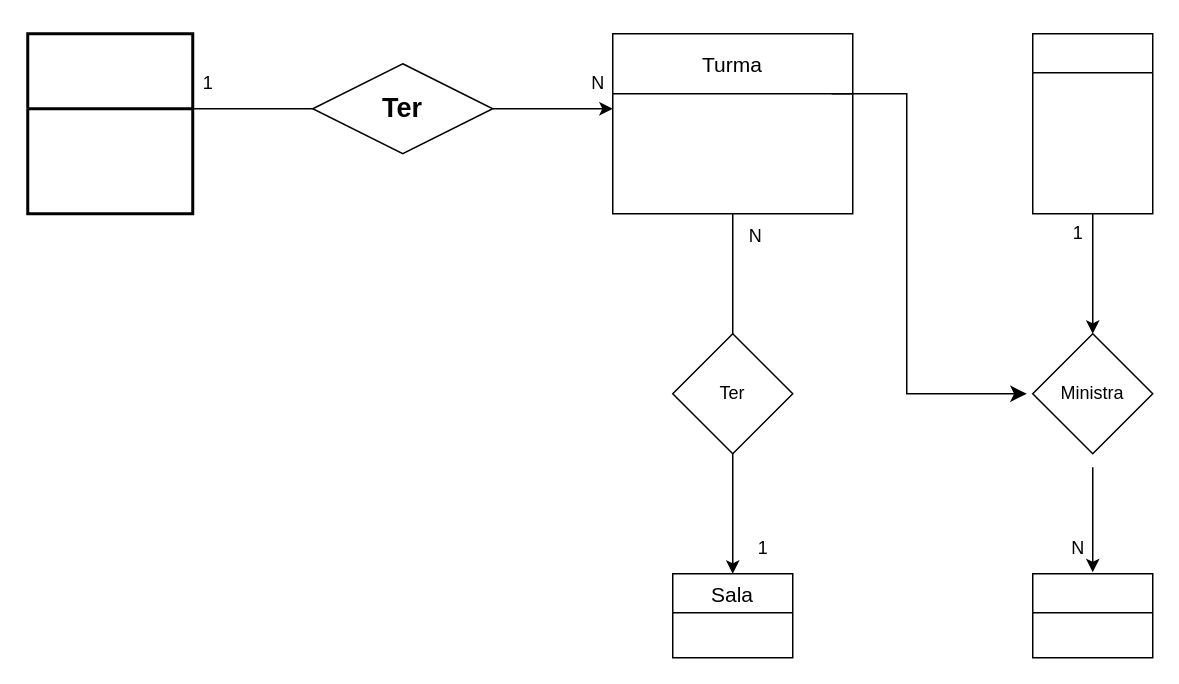
The diagram is 1179 pixels wide and 684 high, and some of its shapes have lost their labels. Each missing label, with the box of its shape:
Aula: (1031, 572, 1153, 658)
Escola: (26, 32, 194, 214)
Professores: (1031, 32, 1153, 214)
